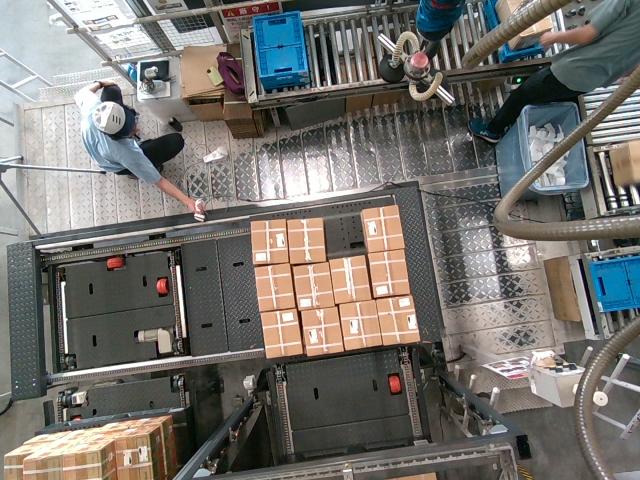box: (376, 297, 422, 343), (340, 297, 382, 347), (361, 203, 405, 250), (291, 262, 334, 309), (328, 255, 372, 300), (302, 305, 342, 353), (252, 265, 294, 310), (259, 309, 299, 355), (368, 249, 409, 292), (287, 216, 327, 260), (251, 218, 289, 263)
